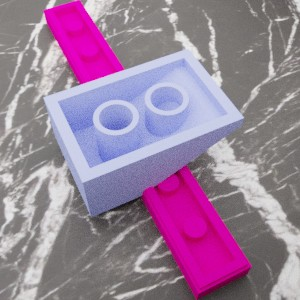lego: (43, 0, 251, 300), (43, 48, 244, 217)
